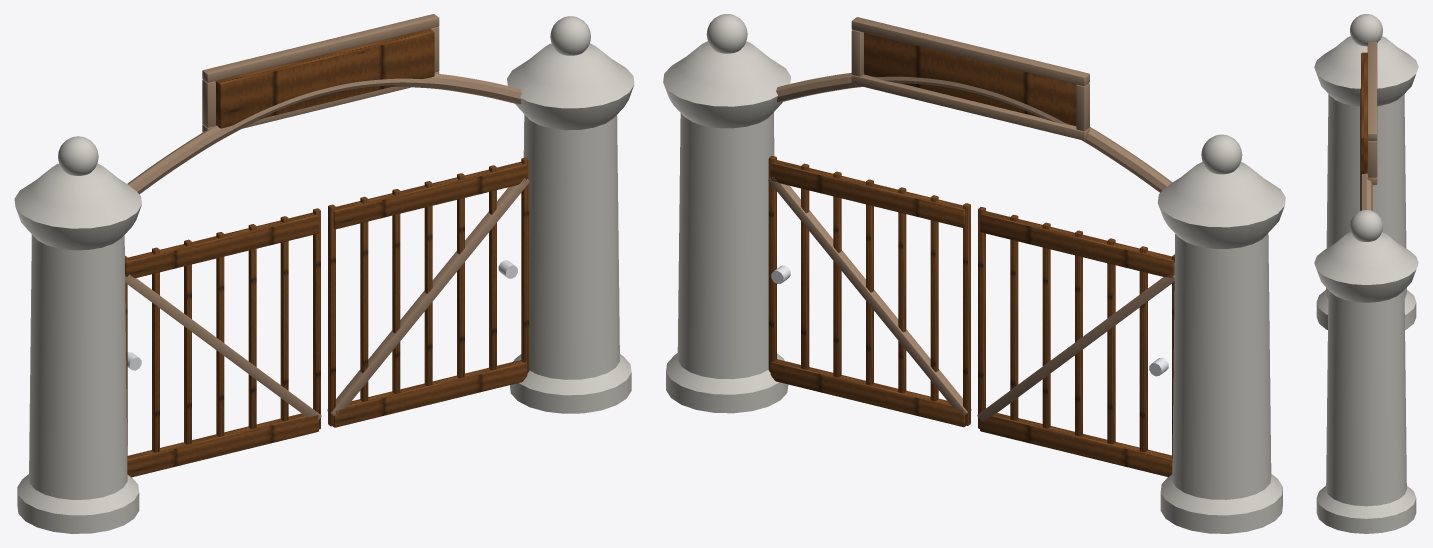
File: th38_hoftor.glb
3 renders of one model, left to right at view 1: azimuth 30°, elevation 25°; view 2: azimuth 150°, elevation 25°; view 3: azimuth 270°, elevation 25°, orthographic. The views are drawn at different scales.
Visible parts, largest first — view 1: Pfeiler, Pfeiler.001, Cube, Bogen, Cube.016, Cube.006, Cube.015, Cube.005, Cube.024, Cube.001, Cube.014, Cube.023 (+15 smaller); view 2: Pfeiler, Pfeiler.001, Cube, Cube.016, Cube.006, Cube.015, Cube.005, Bogen, Cube.024, Cube.001, Cube.002, Cube.014 (+15 smaller); view 3: Pfeiler.001, Pfeiler, Cube.001, Sphere.001, Cube, Sphere, Bogen, Cube.004.
Boxes of the visible parts, x1,y1,x2,y2 form: Pfeiler: (14, 163, 141, 533); Pfeiler.001: (507, 43, 634, 413); Cube: (215, 29, 434, 128); Bogen: (127, 73, 521, 194); Cube.016: (333, 161, 527, 229); Cube.006: (125, 212, 318, 277); Cube.015: (333, 360, 527, 427); Cube.005: (127, 413, 318, 477); Cube.024: (327, 178, 529, 416); Cube.001: (202, 14, 439, 82); Cube.014: (125, 274, 321, 419); Cube.023: (521, 157, 529, 373); Pfeiler: (1157, 162, 1285, 533); Pfeiler.001: (663, 41, 791, 413); Cube: (864, 32, 1076, 125); Cube.016: (770, 160, 965, 227); Cube.006: (980, 211, 1174, 278); Cube.015: (770, 359, 965, 427); Cube.005: (980, 413, 1172, 476); Bogen: (776, 73, 1172, 192); Cube.024: (768, 177, 971, 416); Cube.001: (851, 17, 1089, 86); Cube.002: (851, 74, 1089, 140); Cube.014: (977, 274, 1174, 421); Pfeiler.001: (1314, 232, 1418, 533); Pfeiler: (1314, 36, 1418, 329); Cube.001: (1367, 41, 1377, 140); Sphere.001: (1350, 210, 1382, 241); Cube: (1361, 52, 1367, 173); Sphere: (1350, 14, 1382, 46); Bogen: (1360, 88, 1372, 210); Cube.004: (1367, 140, 1377, 177).
Size of the model in its own units: 4.78 by 3.04 by 0.88.
5 materials, 1 textured.
